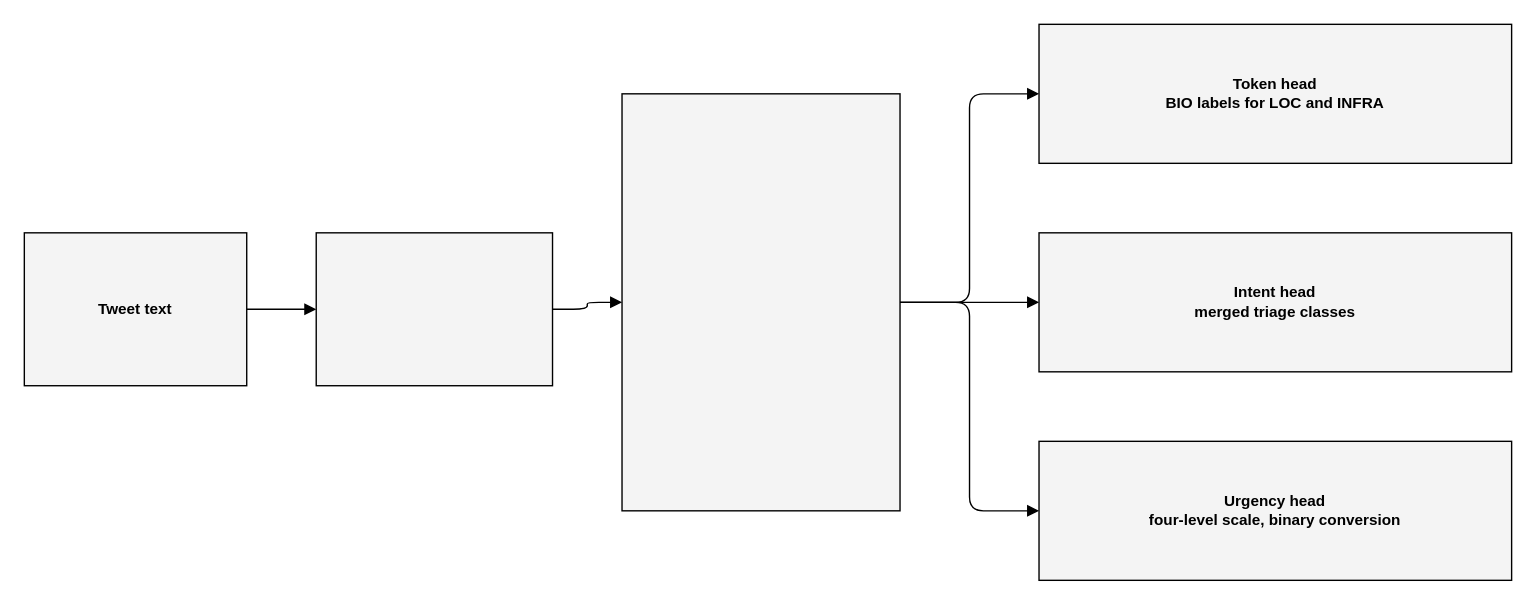
The diagram is 1536 pixels wide and 605 high, and some of its shapes have lost their labels. The shapes that lost their labels are listed below. From the top down, each one's centre as x and y in pixels, then its label:
[434,308]: Tokenizer subword pieces
[760,301]: Shared multilingual encoder shared parameters
